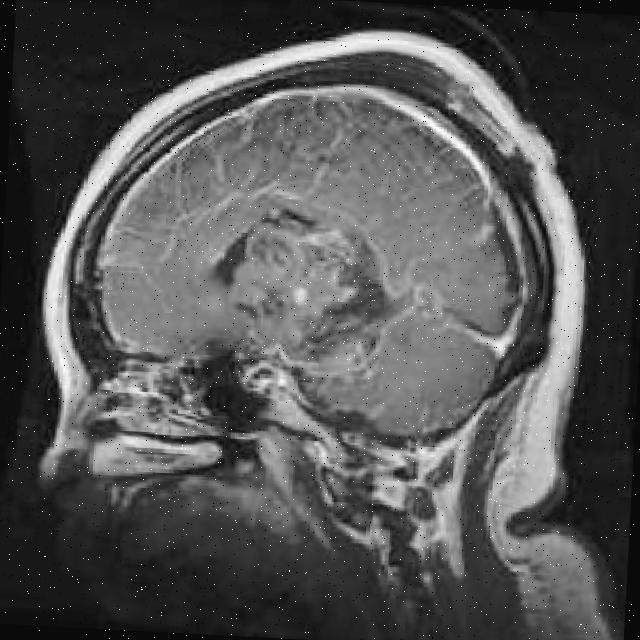LMCI: (160, 205, 246, 262)
